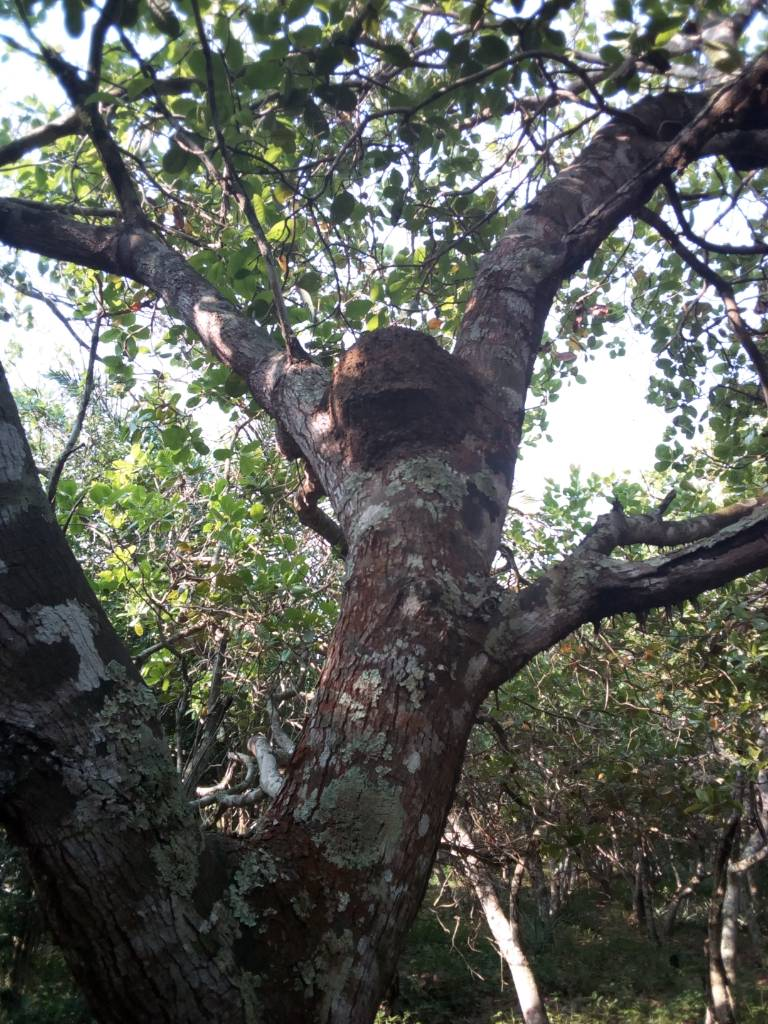Termites: (336, 325, 463, 433)
